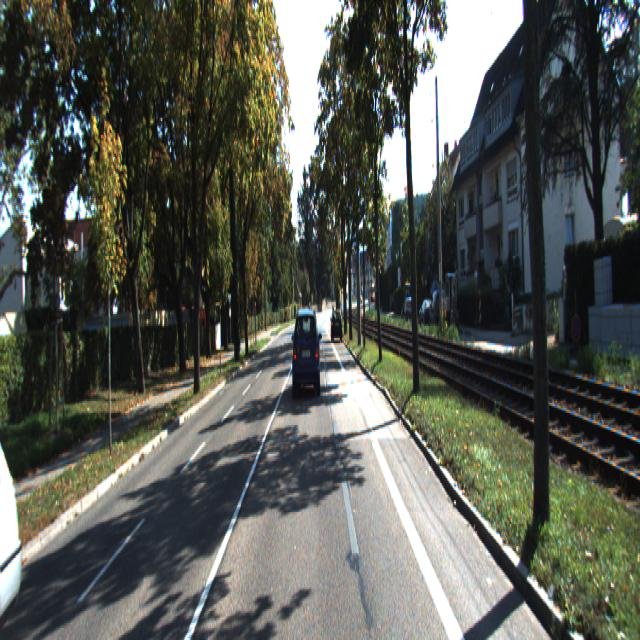Car: (0, 391, 39, 638), (292, 306, 322, 400), (443, 268, 459, 326), (430, 285, 448, 326), (419, 297, 436, 326), (331, 310, 343, 344)
